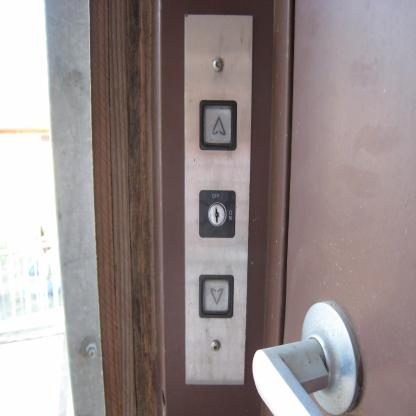bt_keyhole: (196, 184, 240, 242)
down: (198, 272, 235, 319)
up: (198, 99, 238, 152)
